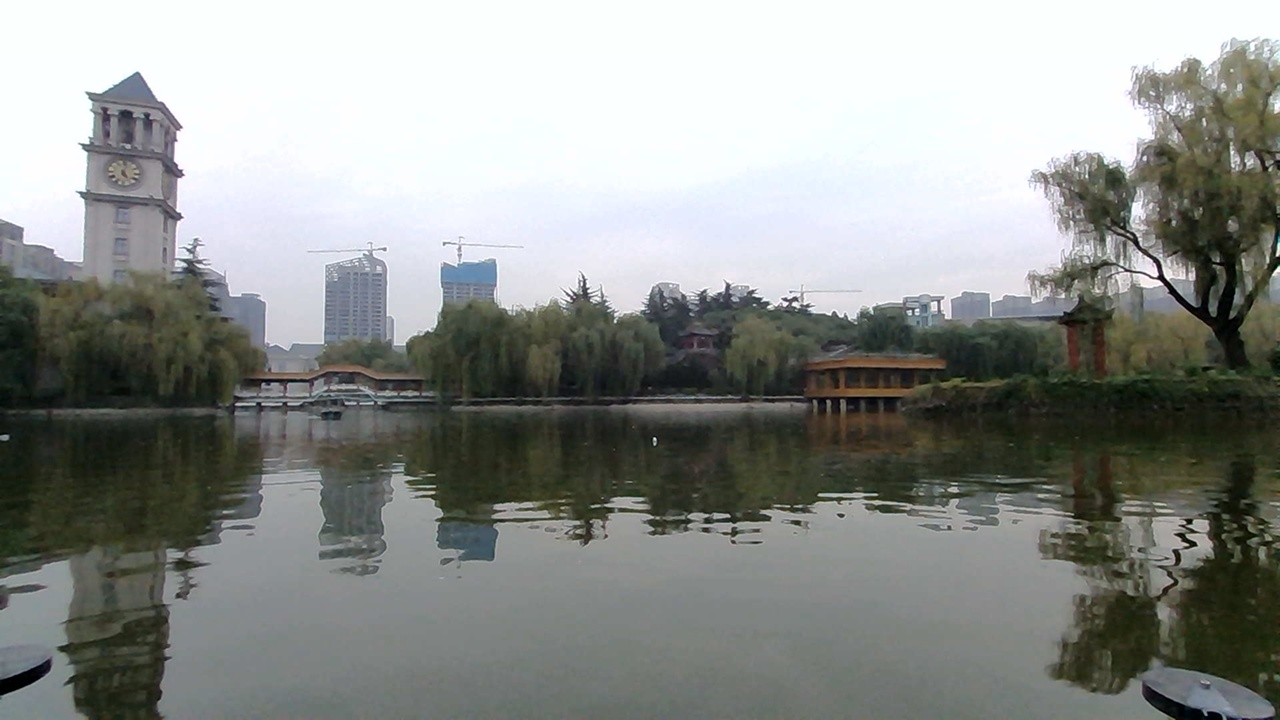bottle: (635, 421, 677, 450), (0, 422, 39, 447)
